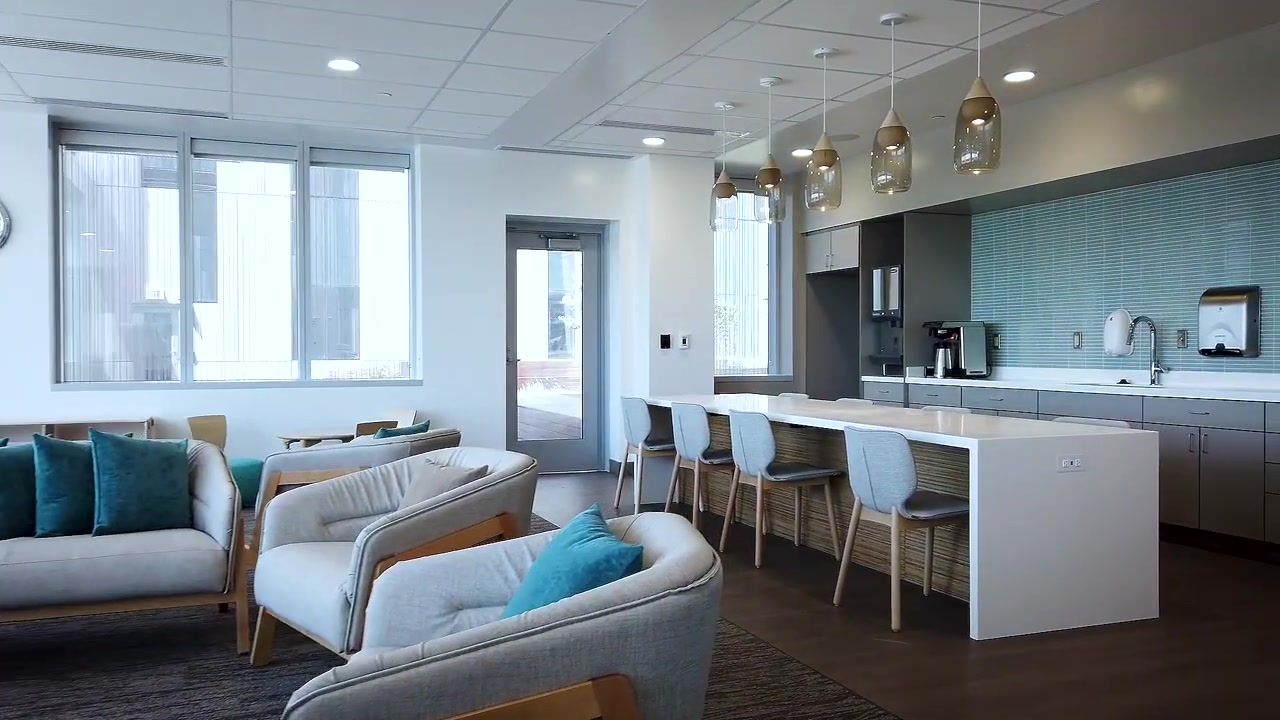cabinet: (803, 218, 861, 277)
chair: (832, 426, 969, 633), (718, 410, 844, 569), (665, 402, 769, 535), (613, 395, 706, 515), (186, 415, 262, 507), (354, 420, 399, 438), (392, 411, 418, 428)
counter: (632, 400, 1157, 623), (935, 384, 1280, 536)
countertop: (638, 392, 1160, 447), (862, 374, 1280, 405)
curtain: (57, 145, 411, 384), (712, 189, 769, 377)
dispenser: (1197, 286, 1262, 359), (1105, 307, 1136, 358)
door_handle: (508, 357, 523, 363)
faucet: (1127, 315, 1168, 386)
handle: (1202, 432, 1209, 454), (1187, 410, 1211, 416), (824, 254, 835, 267), (1188, 431, 1194, 454), (926, 391, 939, 400), (876, 388, 890, 396), (987, 397, 1005, 403)
light_switch: (1177, 330, 1188, 348)
sink: (1067, 379, 1165, 391)
sofa: (281, 513, 727, 715), (247, 446, 539, 665), (1, 432, 252, 656), (250, 428, 465, 532)
table: (1, 414, 156, 439), (275, 430, 354, 449)
